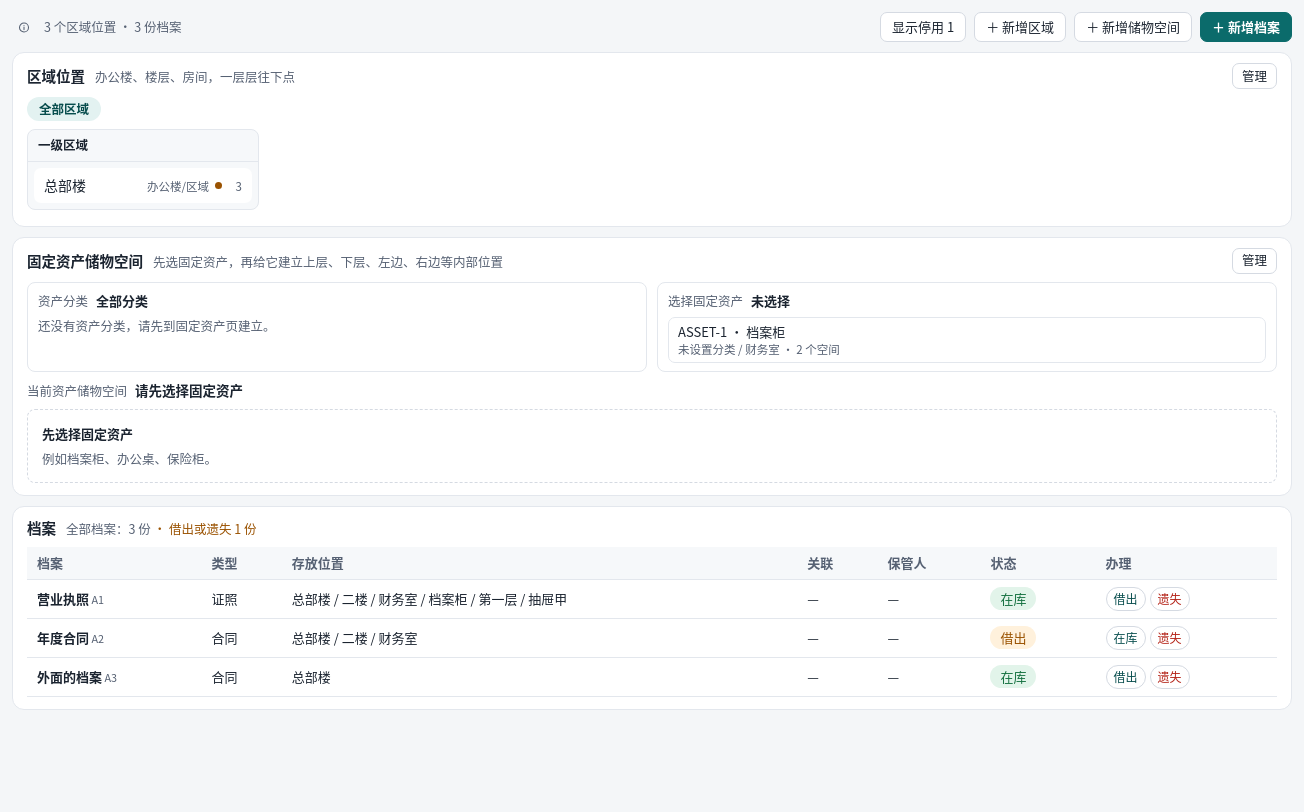
Test: 房间与档案位置看板 › 区域位置一级级往右展开，档案跟着选中的位置过滤；含下级包含放在房间里的柜子内容
The image size is (1304, 812).
Click the button "总部楼 办公楼/区域 3". click: (143, 185)
box: [35,169,251,202]
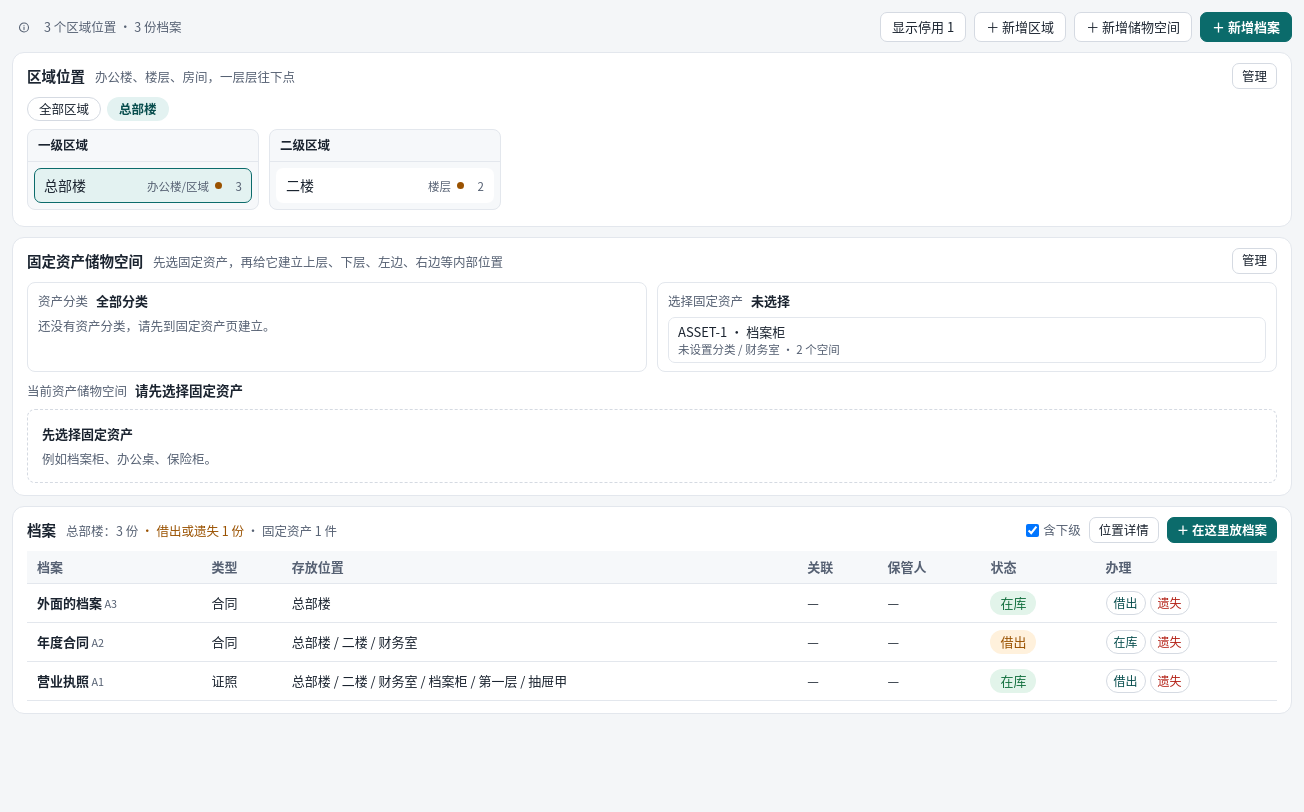
Check: the number of rows is 4, box [27,551,1277,583]; [27,583,1277,622]; [27,622,1277,661]; [27,661,1277,700]
Check: the element "二级区域" is shown, box [269,129,501,210]
Click the button "二楼 楼层 2". click: (385, 185)
box: [277,169,493,202]
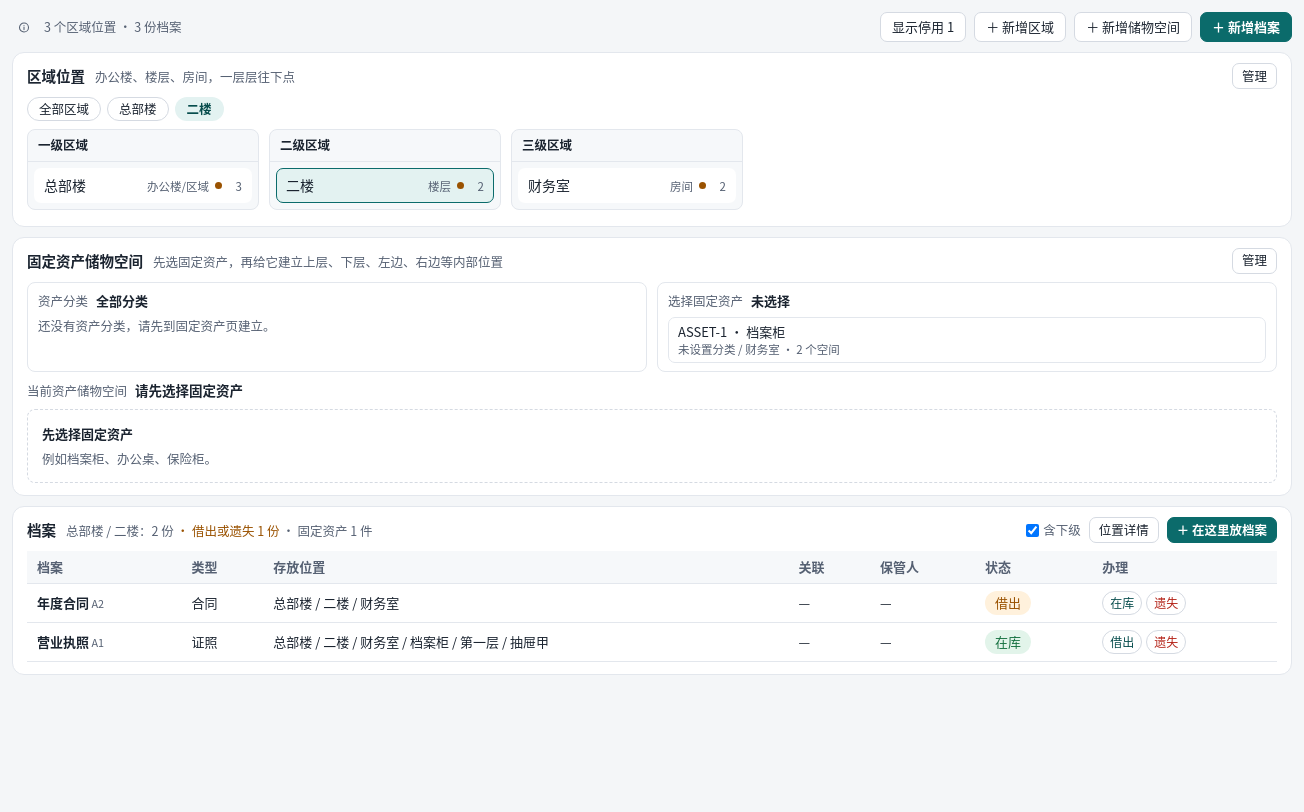
Click the button "财务室 房间 2". click: (627, 185)
box: [519,169,735,202]
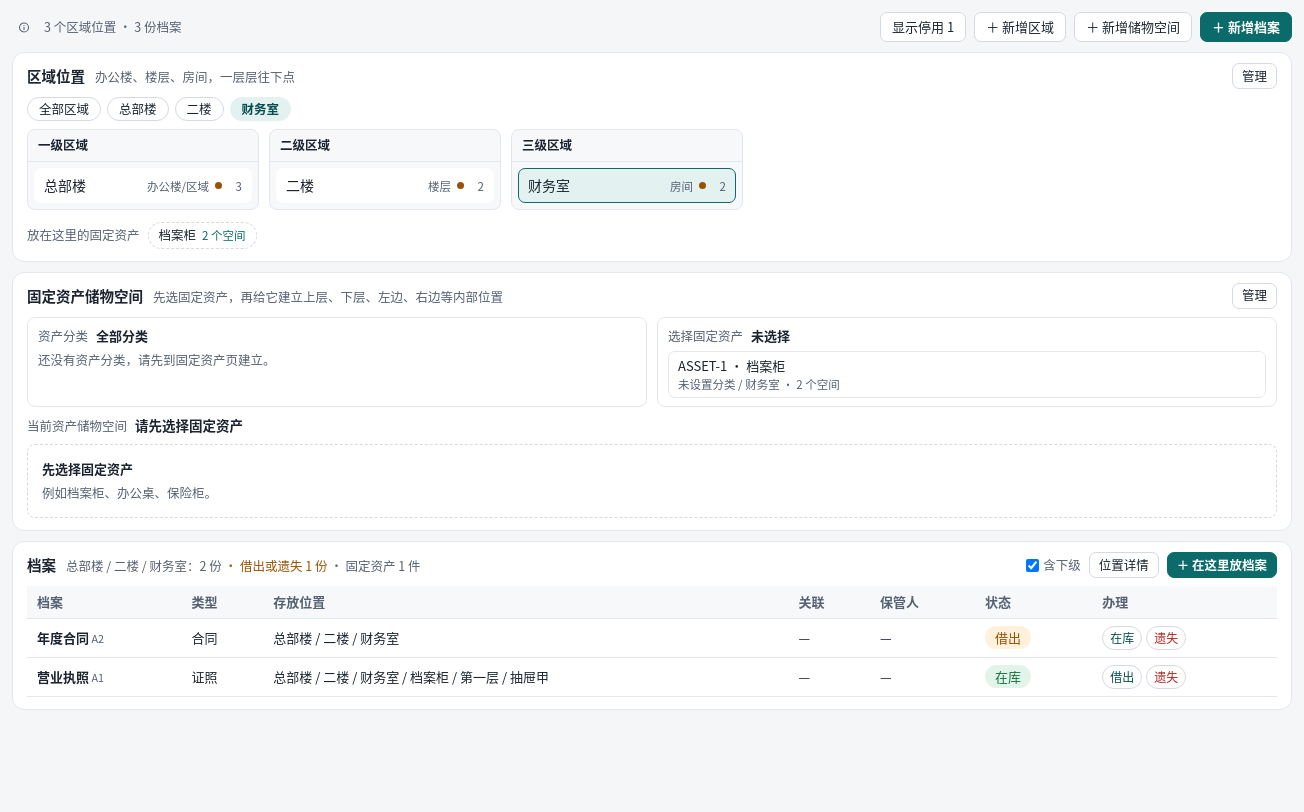
Check: the text "外面的档案" is not shown
Check: the number of rows is 3, box [27,586,1277,618]; [27,618,1277,657]; [27,657,1277,696]
小标签：点哪级回到哪级
Click the button "二楼". click: (199, 109)
box: [174,97,224,121]
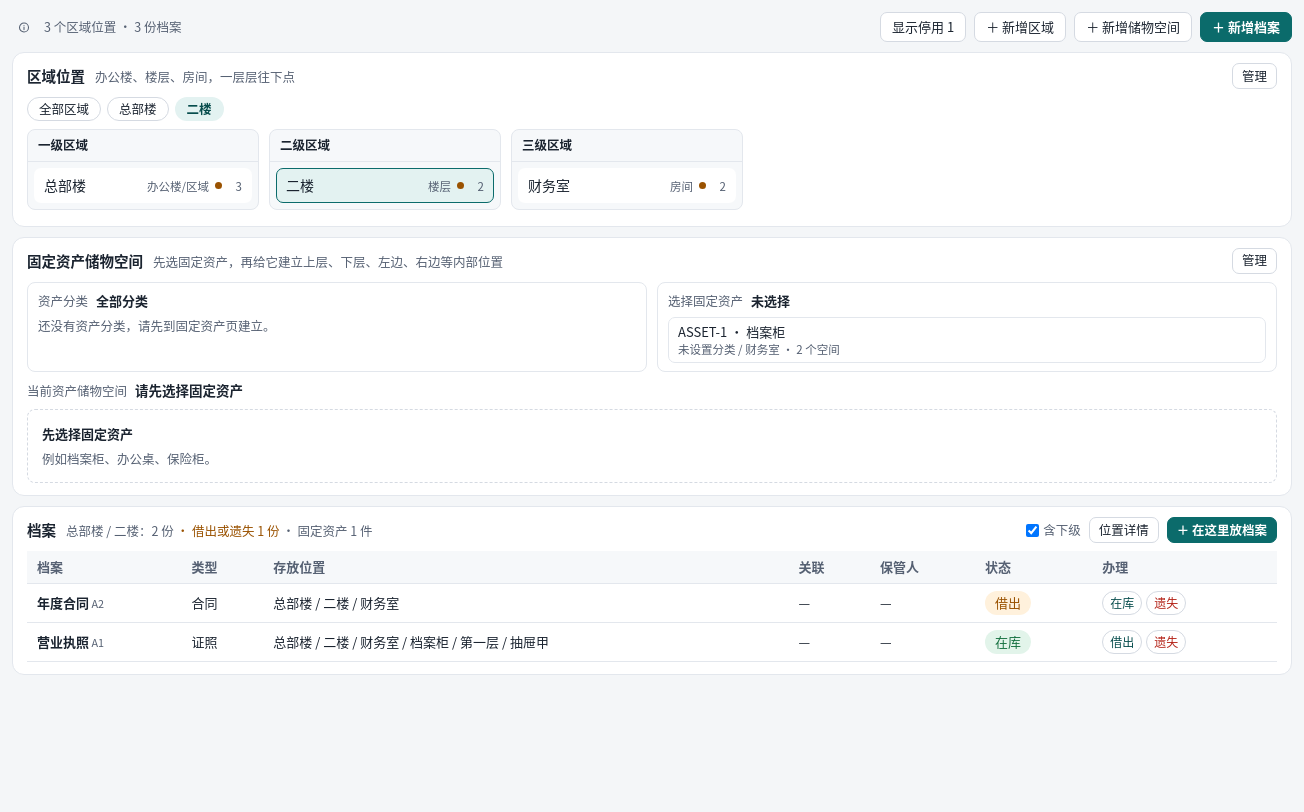
Check: the number of rows is 3, box [27,551,1277,583]; [27,583,1277,622]; [27,622,1277,661]
Click the button "全部区域". click: (64, 109)
box: [27,97,101,121]
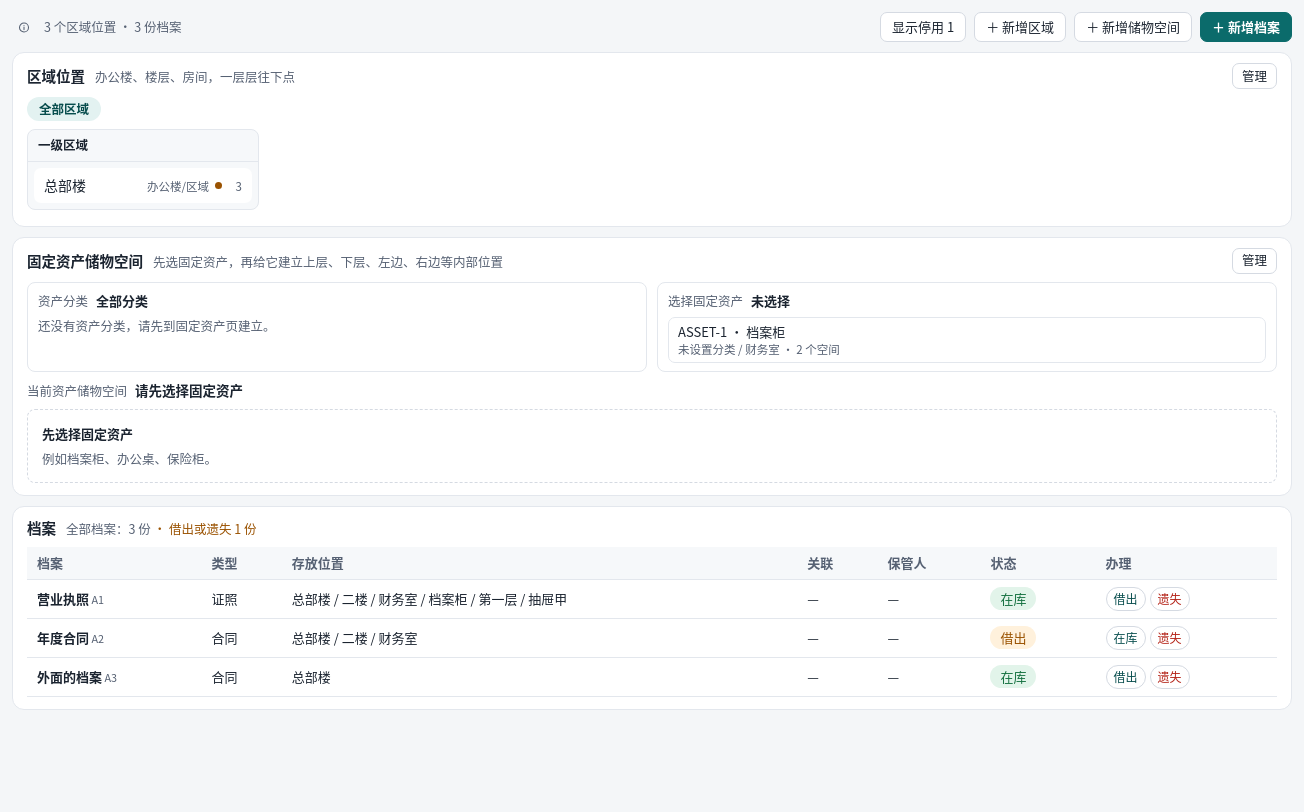
Check: the number of rows is 4, box [27,547,1277,579]; [27,579,1277,618]; [27,618,1277,657]; [27,657,1277,696]
